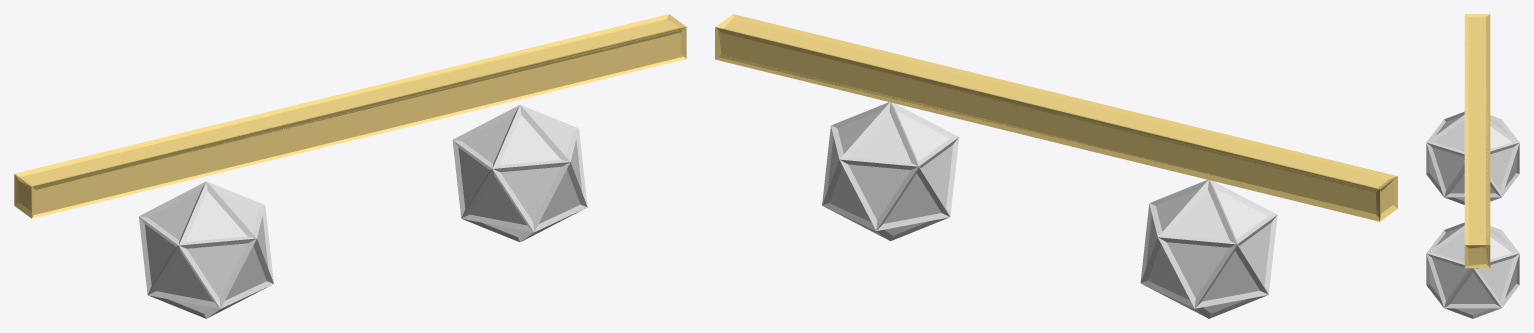
The model's file is garland.fbx.
The picture shows the model from 3 angles, left to right: view 1: azimuth 30°, elevation 25°; view 2: azimuth 150°, elevation 25°; view 3: azimuth 270°, elevation 25°; orthographic projection. The views are drawn at different scales.
Parts seen in each view (by area): view 1: Cube.052; view 2: Cube.052; view 3: Cube.052.
Part boxes in pixels (<box>): Cube.052: <box>14,14,686,318</box>; Cube.052: <box>715,14,1397,318</box>; Cube.052: <box>1426,14,1519,318</box>.
Size of the model in its own units: 0.5256 by 0.1384 by 0.0899.
